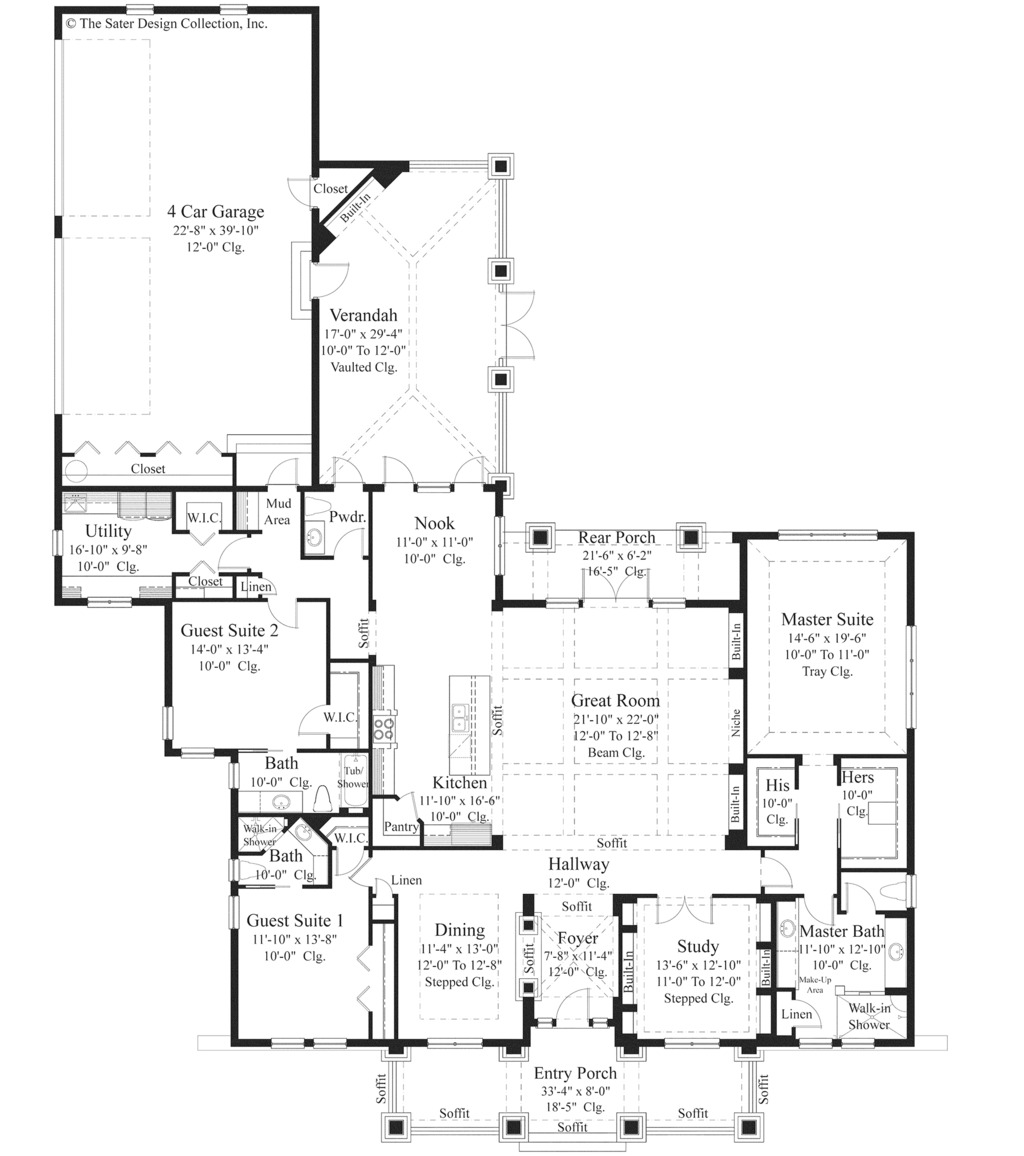door: (498, 285, 543, 364), (446, 446, 500, 494), (654, 889, 723, 926), (305, 260, 357, 305), (321, 525, 377, 566), (555, 980, 600, 1030), (248, 451, 307, 489), (289, 698, 348, 735), (779, 991, 825, 1037), (323, 448, 370, 489), (216, 534, 264, 573), (266, 594, 314, 633), (361, 871, 405, 910), (798, 883, 836, 928), (284, 167, 323, 210), (375, 453, 416, 492), (754, 855, 796, 889), (848, 880, 884, 919), (337, 848, 364, 878)
large_sink: (877, 871, 923, 908), (305, 780, 337, 817), (225, 862, 266, 883)
small_sink: (882, 928, 916, 980), (300, 514, 323, 559)
twin_sink: (446, 696, 487, 753)
window: (782, 525, 886, 546), (905, 621, 925, 730), (662, 1034, 737, 1053), (157, 698, 184, 741), (432, 1032, 487, 1053), (89, 592, 137, 612), (266, 1034, 350, 1044), (180, 742, 218, 764), (120, 5, 154, 19)
